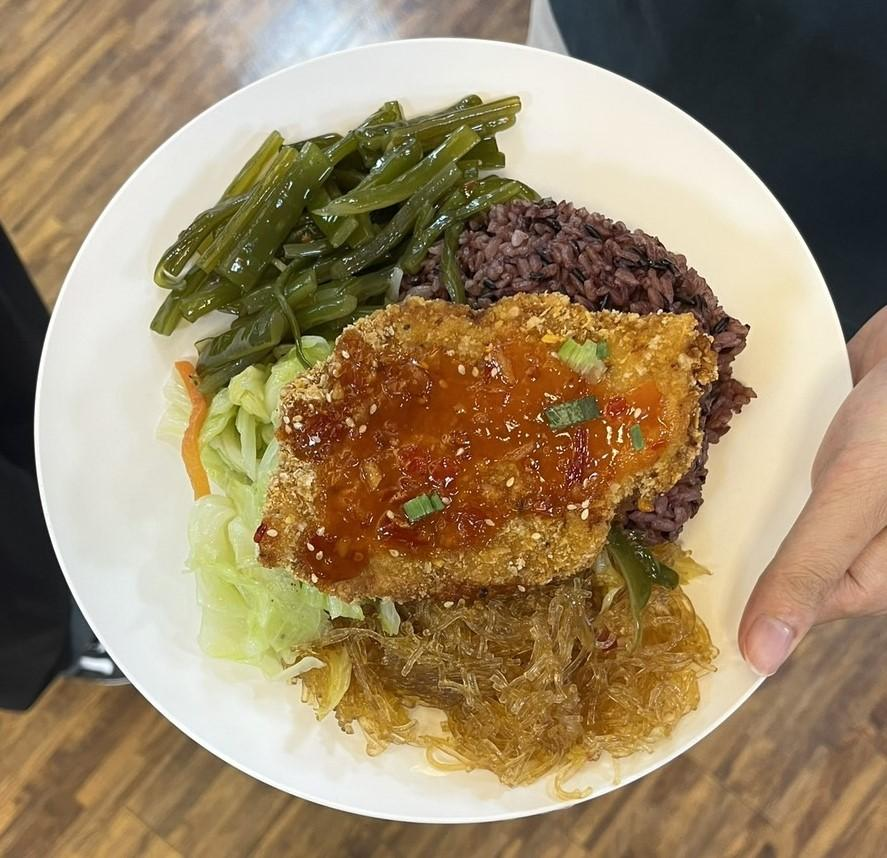big fried chicken leg: (24, 36, 875, 827)
braised fish: (410, 190, 749, 547)
braised fish fillet: (155, 82, 512, 379), (299, 534, 724, 775), (176, 360, 373, 676)
braised pork: (259, 282, 700, 604)
